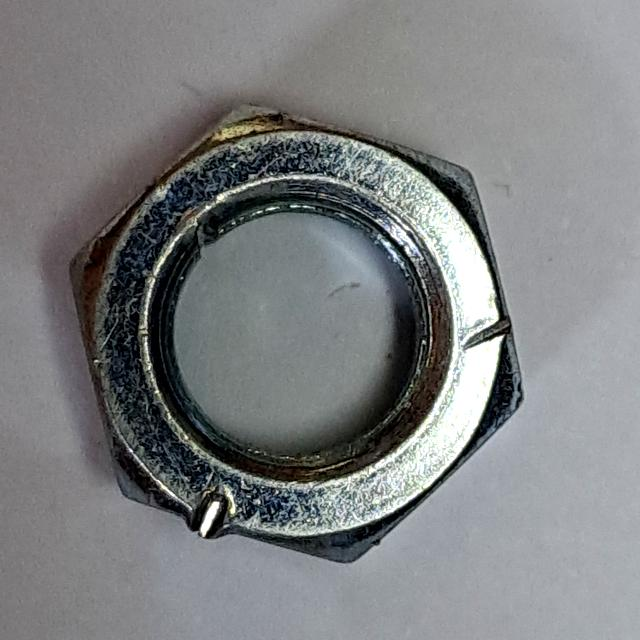Scratches: (57, 81, 539, 584)
